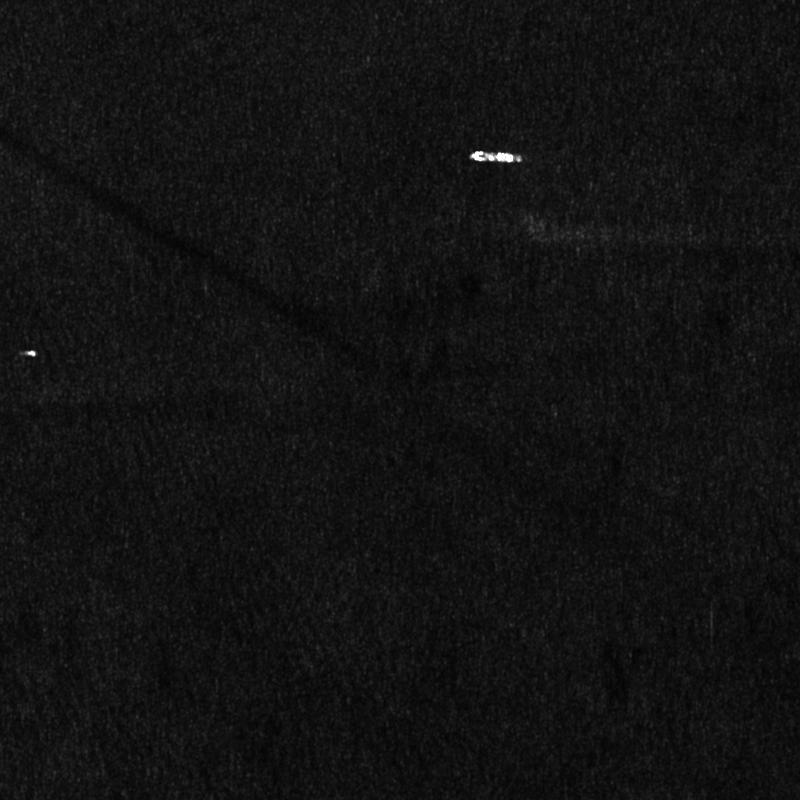ship: (468, 150, 522, 163), (19, 350, 37, 357)
